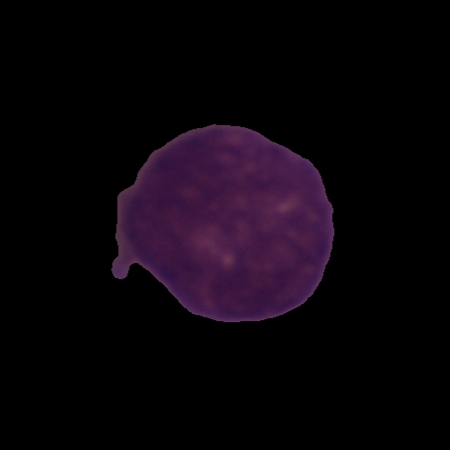HEM: (108, 120, 338, 326)
